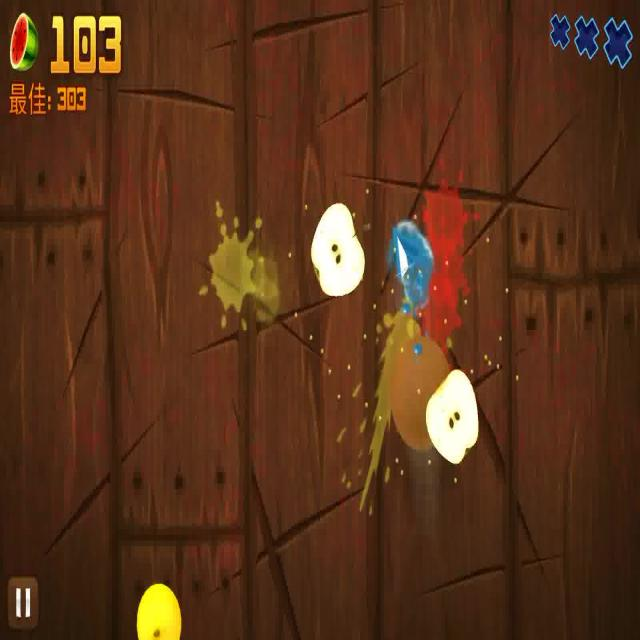fruit: (426, 368, 479, 466), (308, 204, 364, 294), (134, 582, 182, 640)
